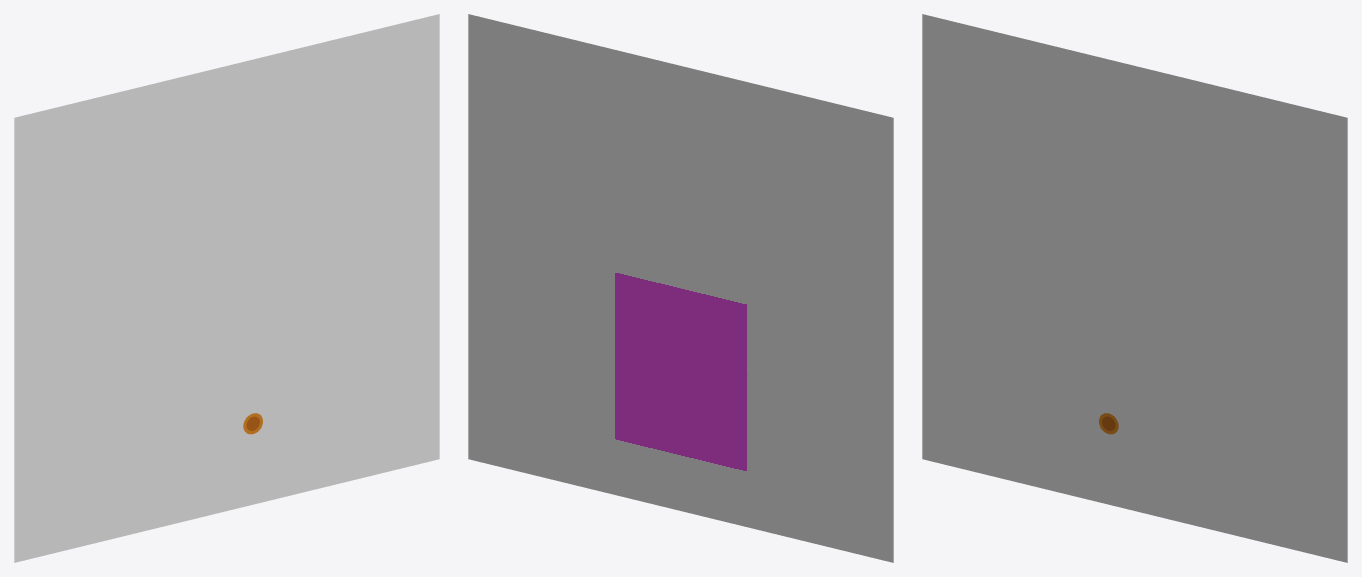
File: Ship.fbx
3 renders of one model, left to right at view 1: azimuth 30°, elevation 25°; view 2: azimuth 150°, elevation 25°; view 3: azimuth 330°, elevation 25°, orthographic.
Parts seen in each view (by area): view 1: MapIconShipEngine, ShipPlane; view 2: MapIconShipEngine; view 3: MapIconShipEngine, ShipPlane.
Part boxes in pixels (x1,y1,x2,y2): MapIconShipEngine: [14, 14, 439, 562]; ShipPlane: [106, 120, 392, 489]; MapIconShipEngine: [468, 14, 893, 562]; MapIconShipEngine: [922, 14, 1347, 562]; ShipPlane: [969, 120, 1255, 489].
Bounding box in the file's own units: 47.74 × 47.74 × 5.1.
